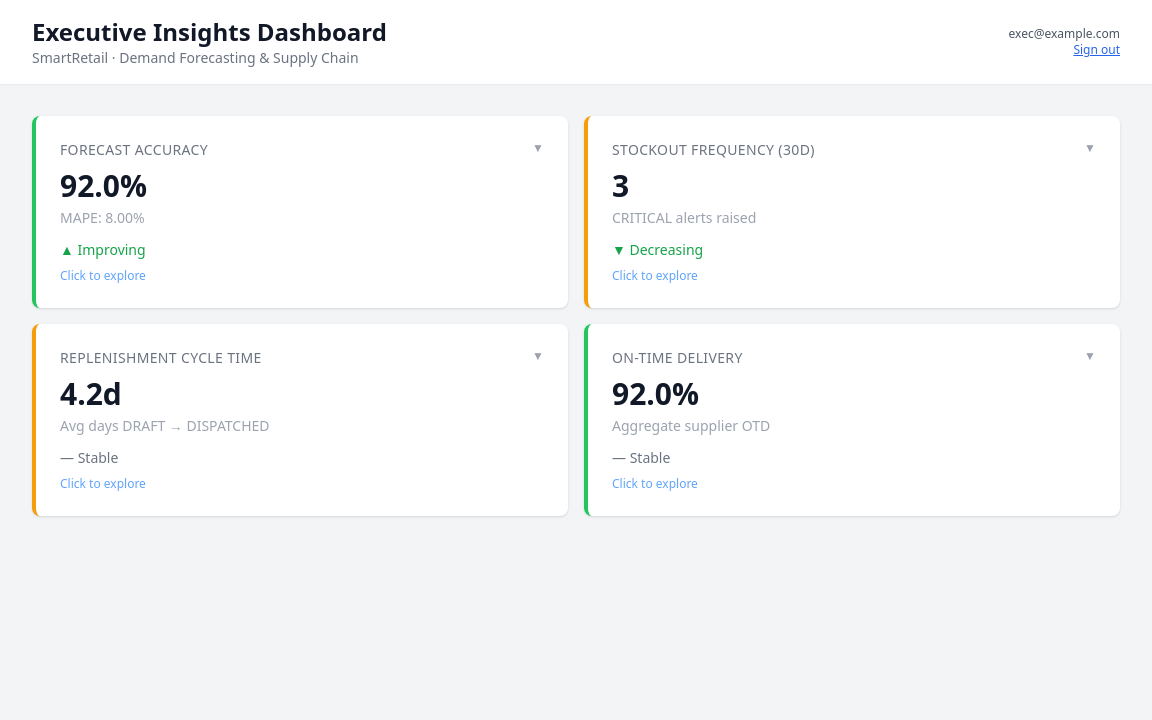
Test: ExecutiveDashboard › expands stockout detail panel when Stockout card is clicked
Click the button "Stockout Frequency": [713, 150] box top-left (584, 116), bottom-right (1120, 308)
(page scrolled)
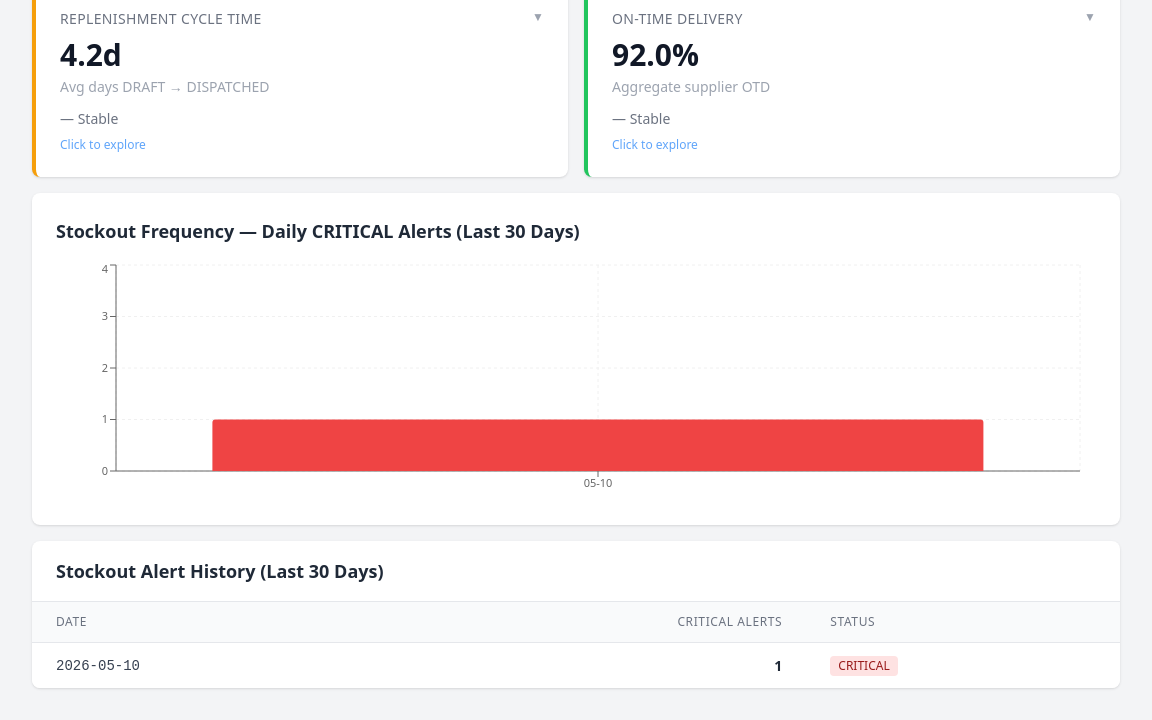
Result: the heading "Stockout Alert History (Last 30 Days)" is shown at top-left (56, 559), bottom-right (384, 583)
